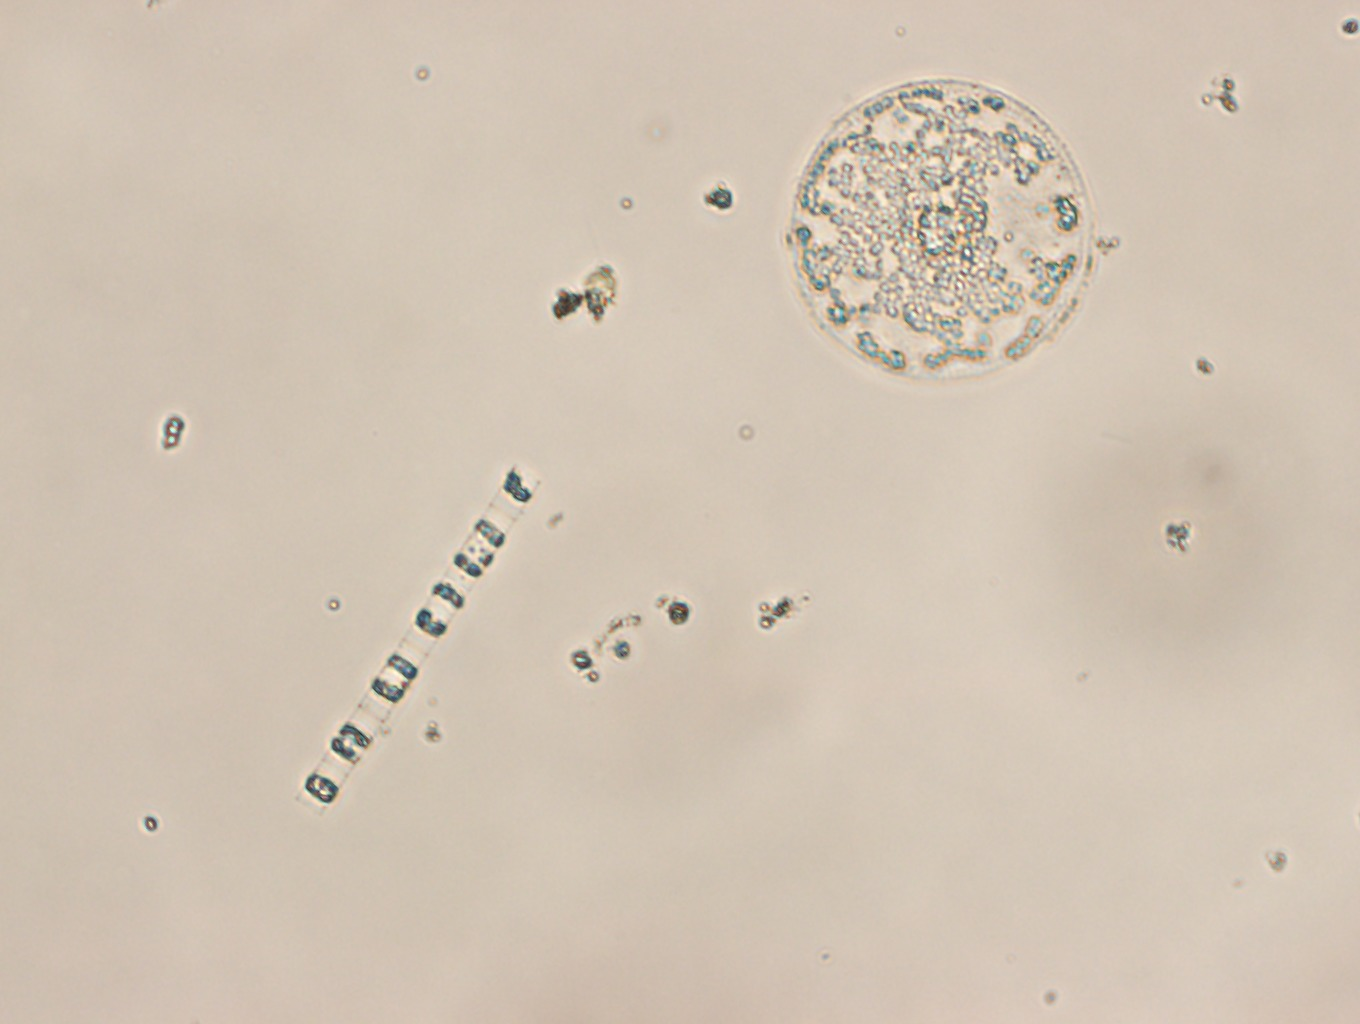coscinodiscus: (783, 74, 1096, 388)
skeletonema: (299, 459, 543, 817)
